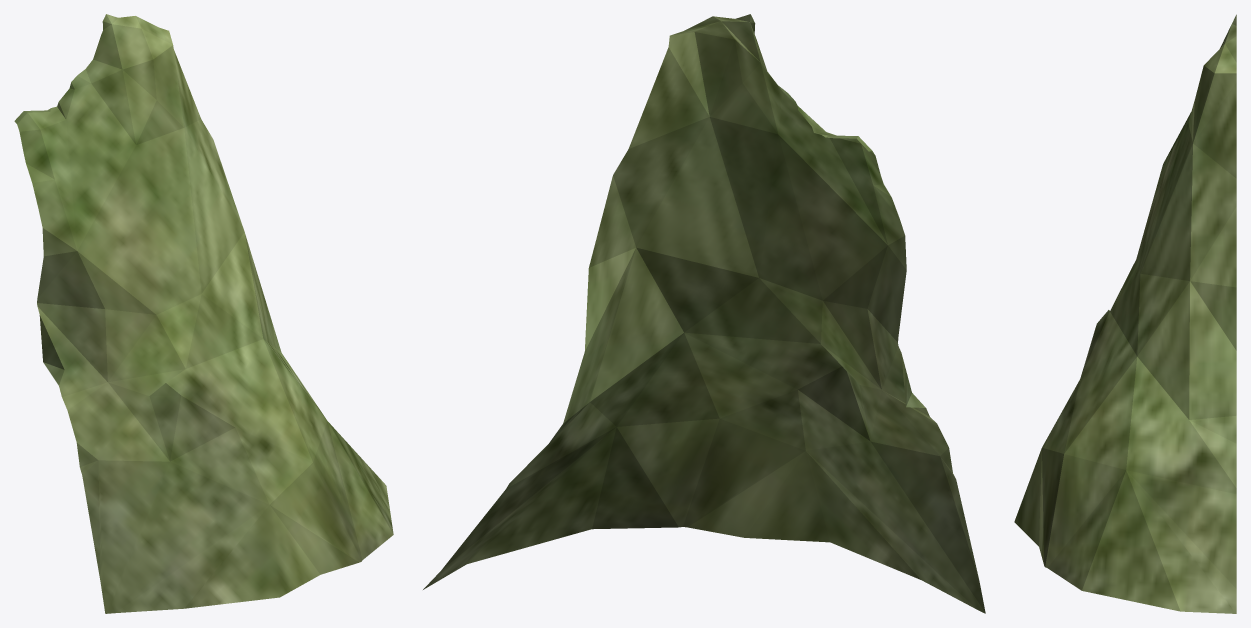
3 views of the same model, side by side, from view 1: azimuth 30°, elevation 25°; view 2: azimuth 150°, elevation 25°; view 3: azimuth 270°, elevation 25° (orthographic). The views are drawn at different scales.
Size of the model in its own units: 2.13 by 3 by 1.25.
1 material, 1 textured.
